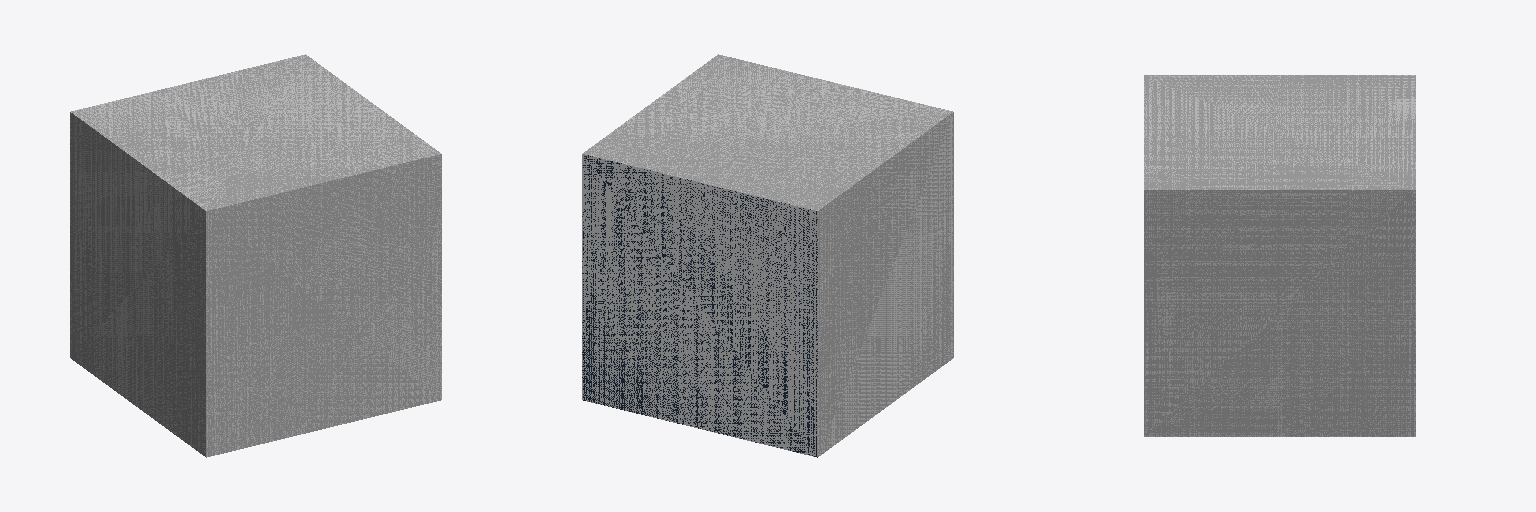
Rendered from neutrino_skybox.obj.
The picture shows the model from 3 angles: view 1: azimuth 30°, elevation 25°; view 2: azimuth 150°, elevation 25°; view 3: azimuth 270°, elevation 25°; orthographic projection.
Visible parts, largest first — view 1: ID12, ID66, ID27; view 2: SketchUp, ID66, ID27; view 3: ID40, ID27.
Boxes of the visible parts, box(x1,y1,x2,y2) form: ID12: box(206, 154, 441, 457); ID66: box(70, 112, 205, 456); ID27: box(71, 54, 440, 210); SketchUp: box(582, 154, 817, 457); ID66: box(818, 112, 953, 456); ID27: box(583, 54, 952, 210); ID40: box(1144, 190, 1415, 436); ID27: box(1144, 75, 1415, 189).
Size of the model in its own units: 32800 by 32800 by 32800.